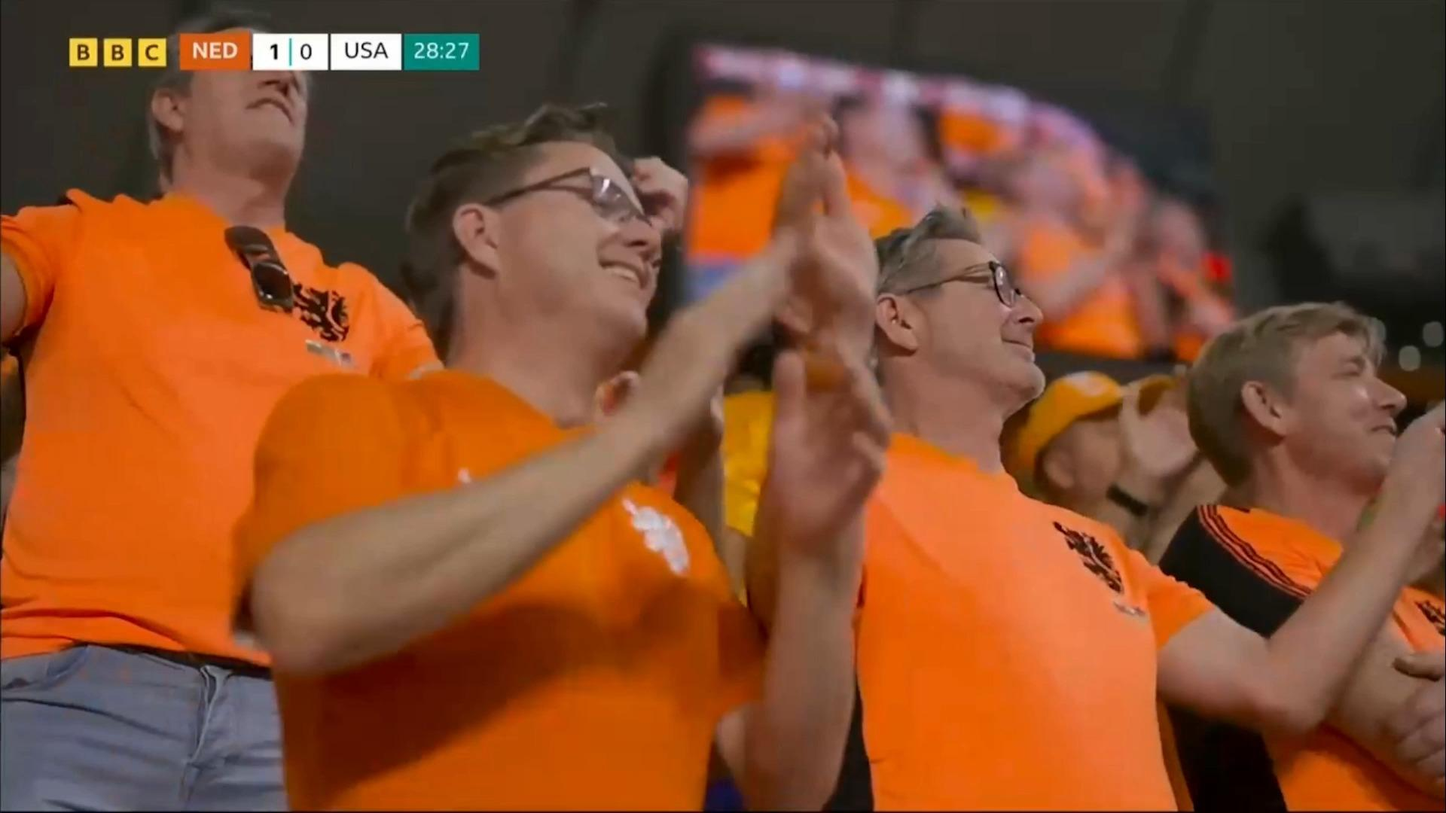Player: (234, 116, 875, 803), (1, 53, 448, 797), (1158, 302, 1408, 643)
